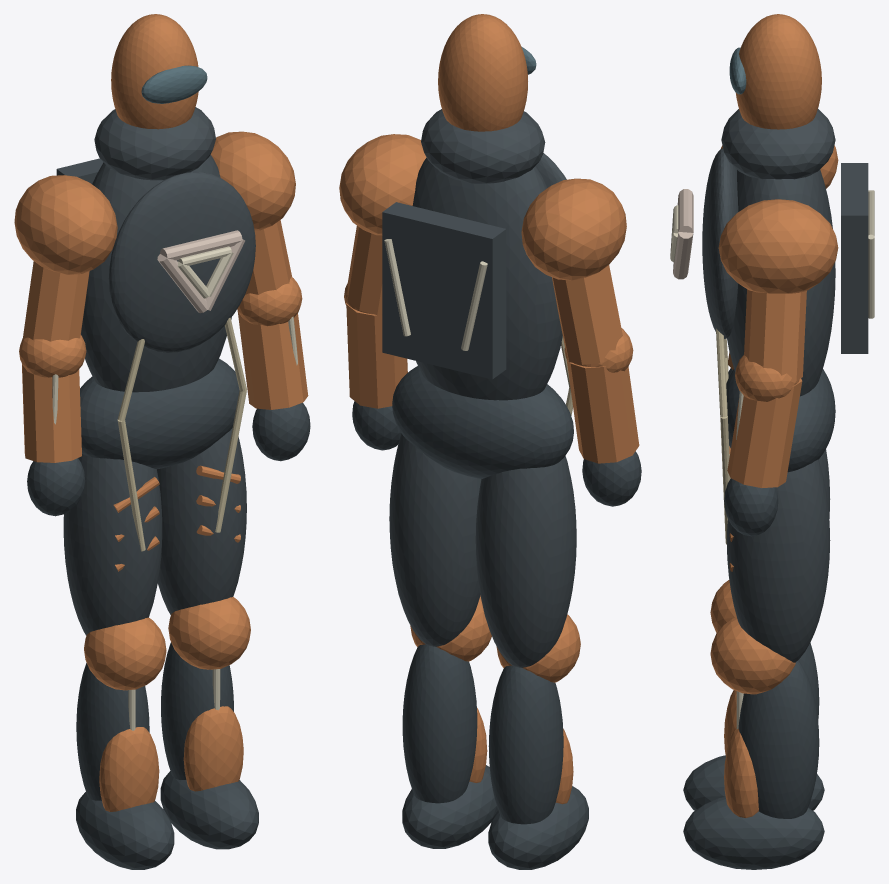
The model's file is unkiai_prototype.glb.
3 views of the same model, side by side, from view 1: azimuth 30°, elevation 25°; view 2: azimuth 150°, elevation 25°; view 3: azimuth 270°, elevation 25° (orthographic). The views are drawn at different scales.
Visible parts, largest first — view 1: chest, thigh_-1, thigh_1, hip, torso, arm_-1, shoulder_-1, arm_1, helmet, collar, shoulder_1, foot_-1 (+17 smaller); view 2: back_plate, thigh_-1, thigh_1, torso, hip, arm_-1, shin_1, shin_-1, helmet, shoulder_-1, arm_1, collar (+12 smaller); view 3: thigh_1, arm_1, shin_1, shoulder_1, helmet, foot_1, torso, collar, back_plate, chest, knee_1, hip (+11 smaller).
Boxes of the visible parts, x1,y1,x2,y2 form: chest: [108, 172, 255, 352]; thigh_-1: [63, 454, 162, 635]; thigh_1: [157, 428, 246, 614]; hip: [80, 358, 239, 469]; torso: [81, 154, 231, 392]; arm_-1: [22, 261, 89, 462]; shoulder_-1: [14, 175, 117, 274]; arm_1: [237, 220, 308, 409]; helmet: [111, 14, 198, 129]; collar: [94, 107, 215, 180]; shoulder_1: [210, 131, 295, 230]; foot_-1: [76, 792, 174, 869]; back_plate: [382, 202, 506, 379]; thigh_-1: [475, 456, 576, 667]; thigh_1: [389, 433, 481, 646]; torso: [412, 158, 562, 400]; hip: [392, 366, 573, 478]; arm_-1: [552, 265, 639, 463]; shin_1: [402, 644, 477, 803]; shin_-1: [488, 665, 563, 824]; helmet: [438, 14, 527, 131]; shoulder_-1: [521, 178, 626, 280]; arm_1: [346, 226, 407, 408]; collar: [421, 109, 545, 183]; thigh_1: [726, 459, 830, 662]; arm_1: [727, 289, 806, 487]; shin_1: [738, 660, 819, 818]; shoulder_1: [718, 199, 838, 293]; helmet: [736, 14, 821, 129]; foot_1: [683, 796, 824, 869]; torso: [727, 169, 835, 396]; collar: [721, 109, 835, 179]; back_plate: [841, 163, 868, 353]; chest: [702, 148, 738, 338]; knee_1: [710, 617, 795, 694]; hip: [726, 369, 835, 472].
Bounding box in the file's own units: 0.59 × 1.68 × 0.376.
